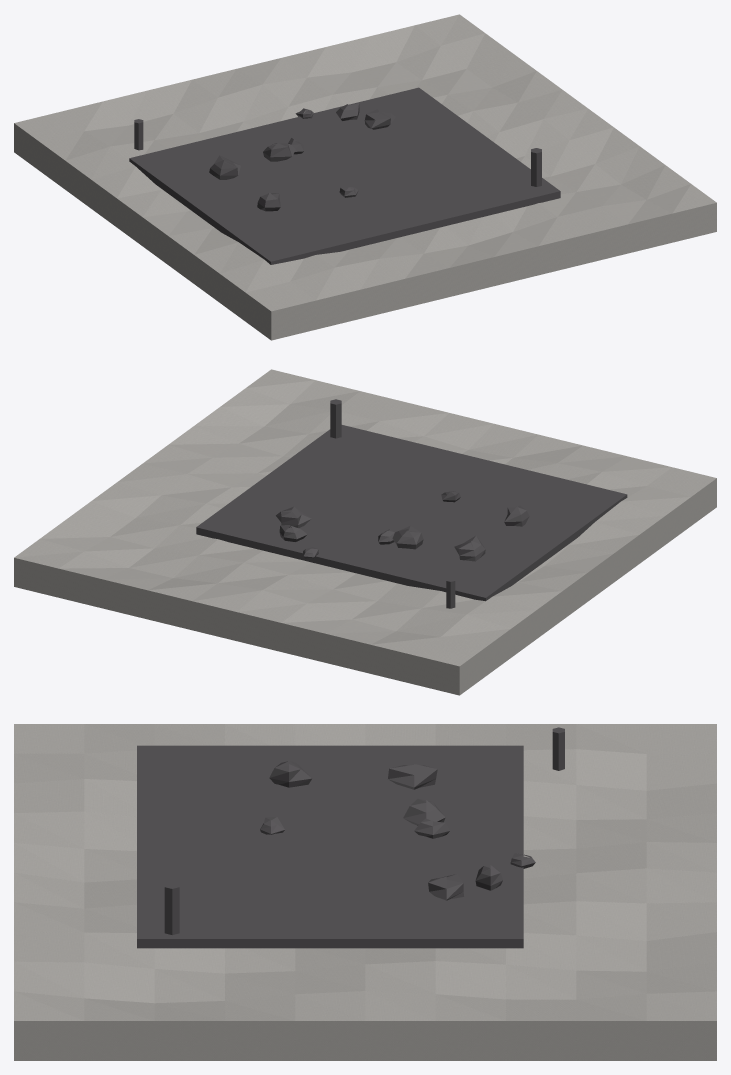
Rendered from volcano-and-lava-fields-volcano-and-lava-fields-scorch-f9131979__37445.glb.
The picture shows the model from 3 angles, top to bottom: view 1: azimuth 30°, elevation 25°; view 2: azimuth 150°, elevation 25°; view 3: azimuth 270°, elevation 25°; orthographic projection. The views are drawn at different scales.
Parts seen in each view (by area): view 1: volcano-and-lava-fields-scorched-ground-plate; view 2: volcano-and-lava-fields-scorched-ground-plate; view 3: volcano-and-lava-fields-scorched-ground-plate.
Boxes of the visible parts, x1,y1,x2,y2 form: volcano-and-lava-fields-scorched-ground-plate: (14, 14, 716, 340); volcano-and-lava-fields-scorched-ground-plate: (14, 369, 716, 695); volcano-and-lava-fields-scorched-ground-plate: (14, 724, 716, 1060).
Size of the model in its own units: 4 by 0.59 by 4.
2 materials, 1 textured.
